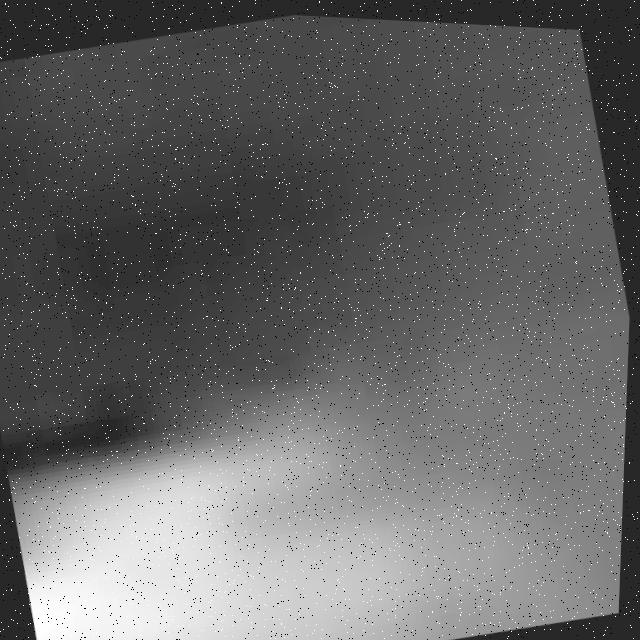person: (2, 347, 559, 640)
